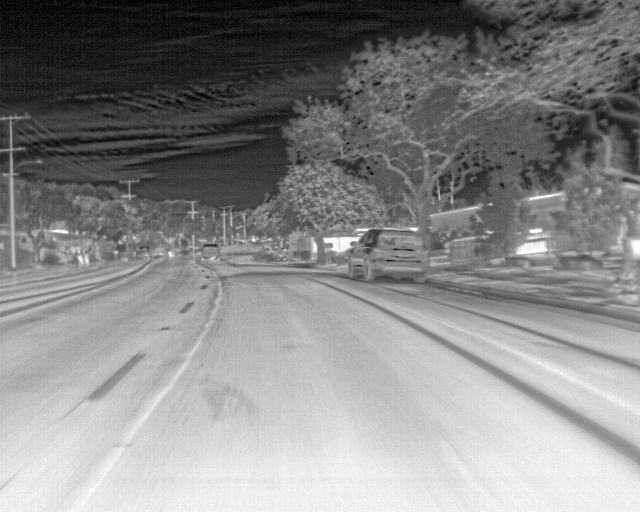vehicle: (349, 229, 428, 283), (200, 244, 220, 265)
